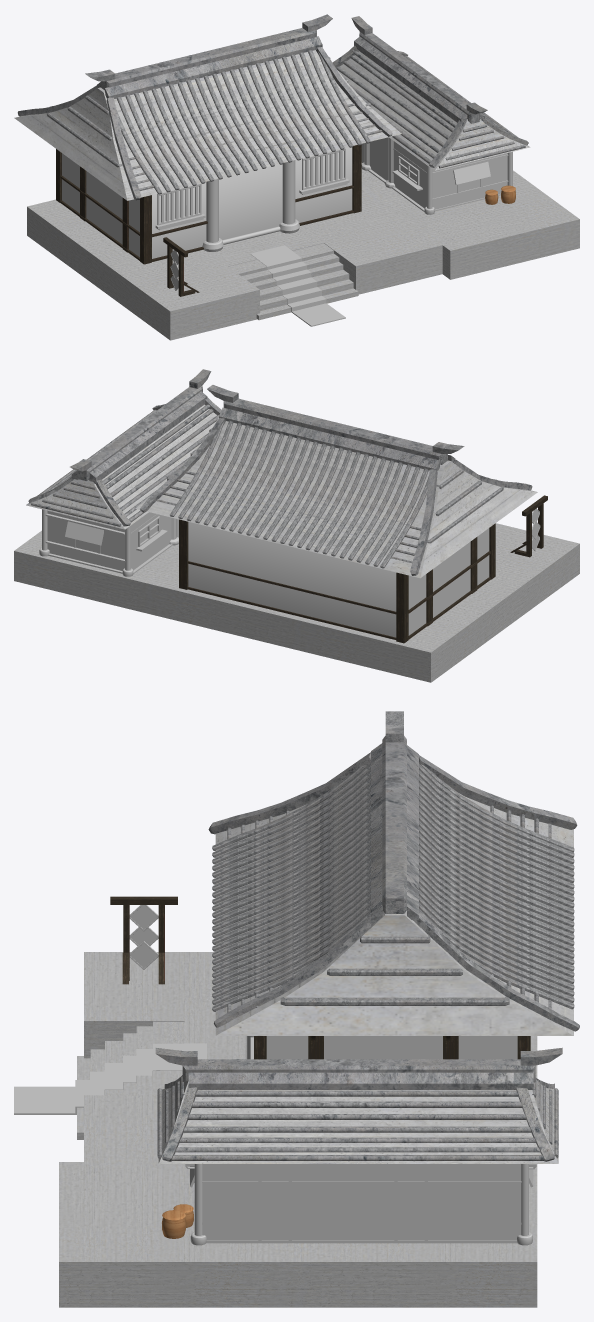
File: kezhan.fbx
3 views of the same model, one above another, from view 1: azimuth 30°, elevation 25°; view 2: azimuth 150°, elevation 25°; view 3: azimuth 270°, elevation 25° (orthographic). The views are drawn at different scales.
Parts seen in each view (by area): view 1: kezhan; view 2: kezhan; view 3: kezhan.
Part boxes in pixels (x1,y1,x2,y2): kezhan: [14, 14, 579, 340]; kezhan: [14, 369, 579, 682]; kezhan: [14, 711, 579, 1307].
Size of the model in its own units: 11.66 by 5.23 by 8.98.
